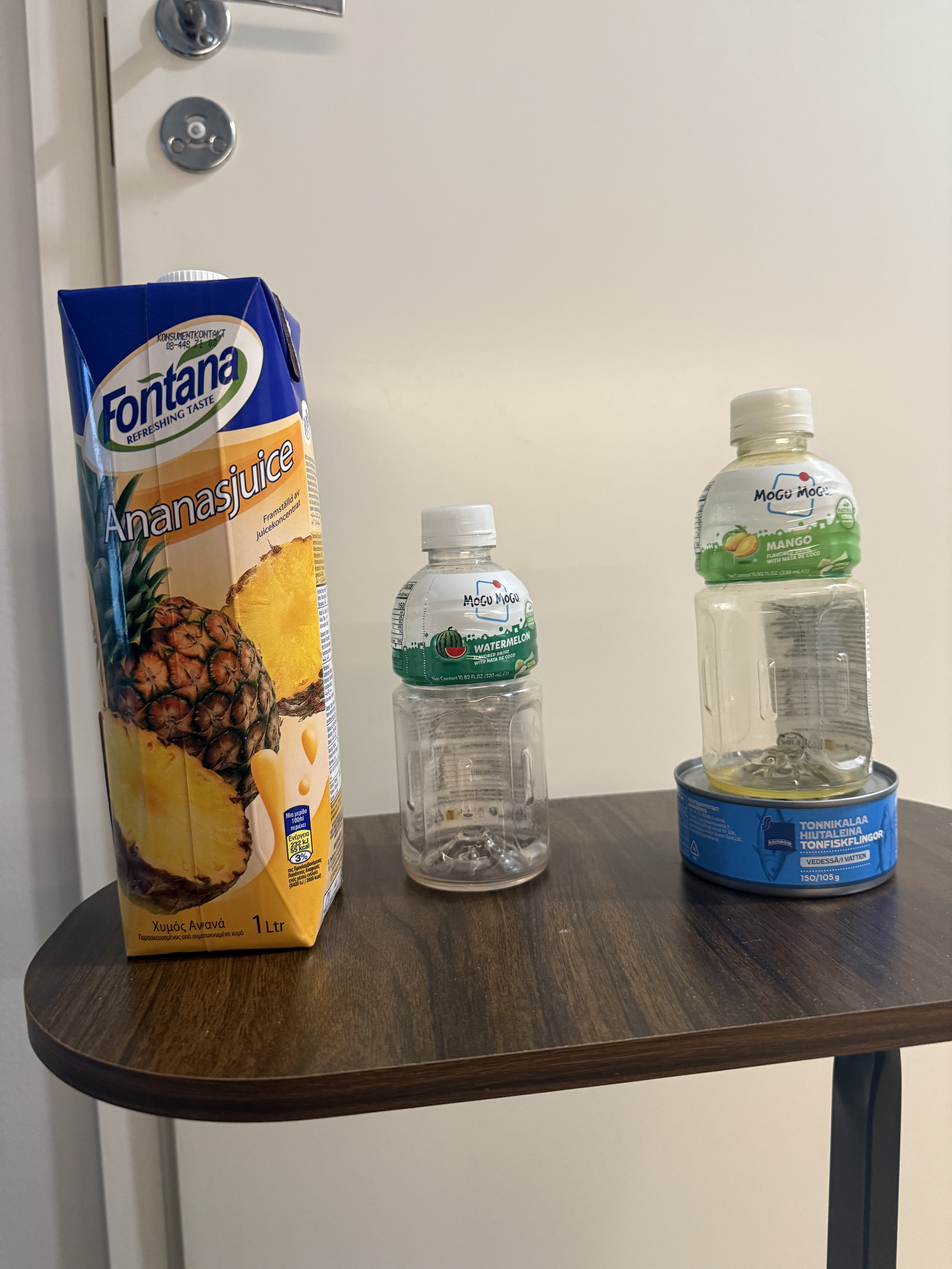Dryckeskartong: (54, 279, 346, 945)
Konservburk: (674, 777, 908, 894)
Pantburk: (689, 370, 878, 773), (393, 508, 548, 894)
